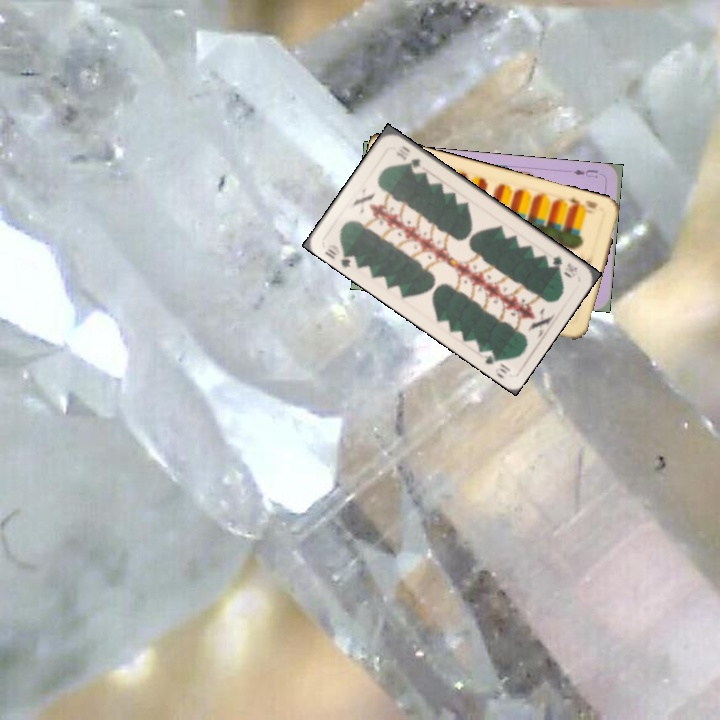E10: (564, 193, 600, 211)
EU: (570, 165, 601, 180)
G10: (321, 243, 359, 270), (548, 252, 581, 277)
